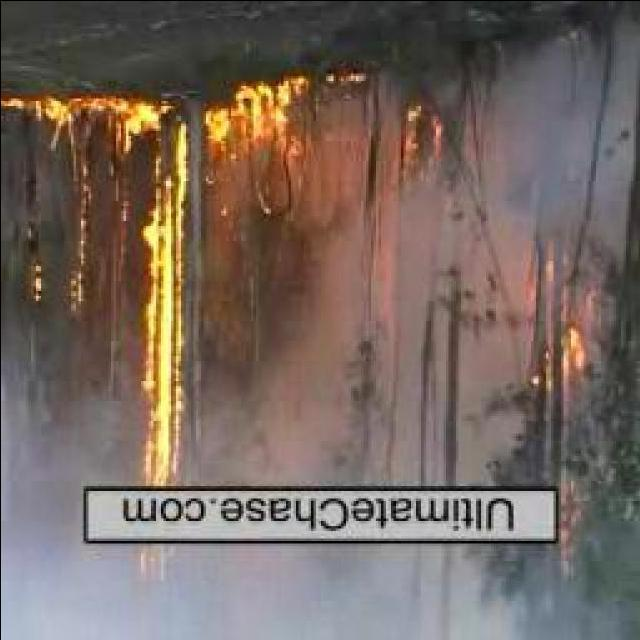Fire: (129, 75, 187, 568), (200, 74, 316, 190), (392, 82, 461, 177), (525, 306, 593, 396), (0, 86, 104, 136)
